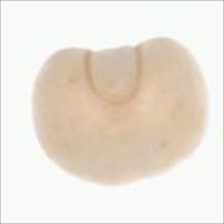L5: (80, 43, 147, 110)
L6: (30, 35, 209, 187)
